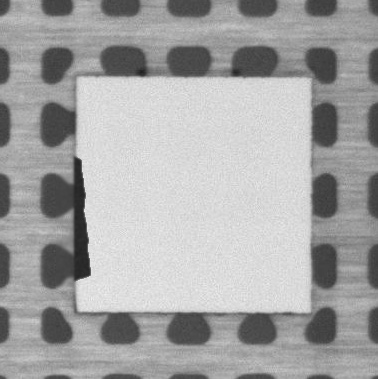DIE_BROKEN: (71, 150, 93, 287)
